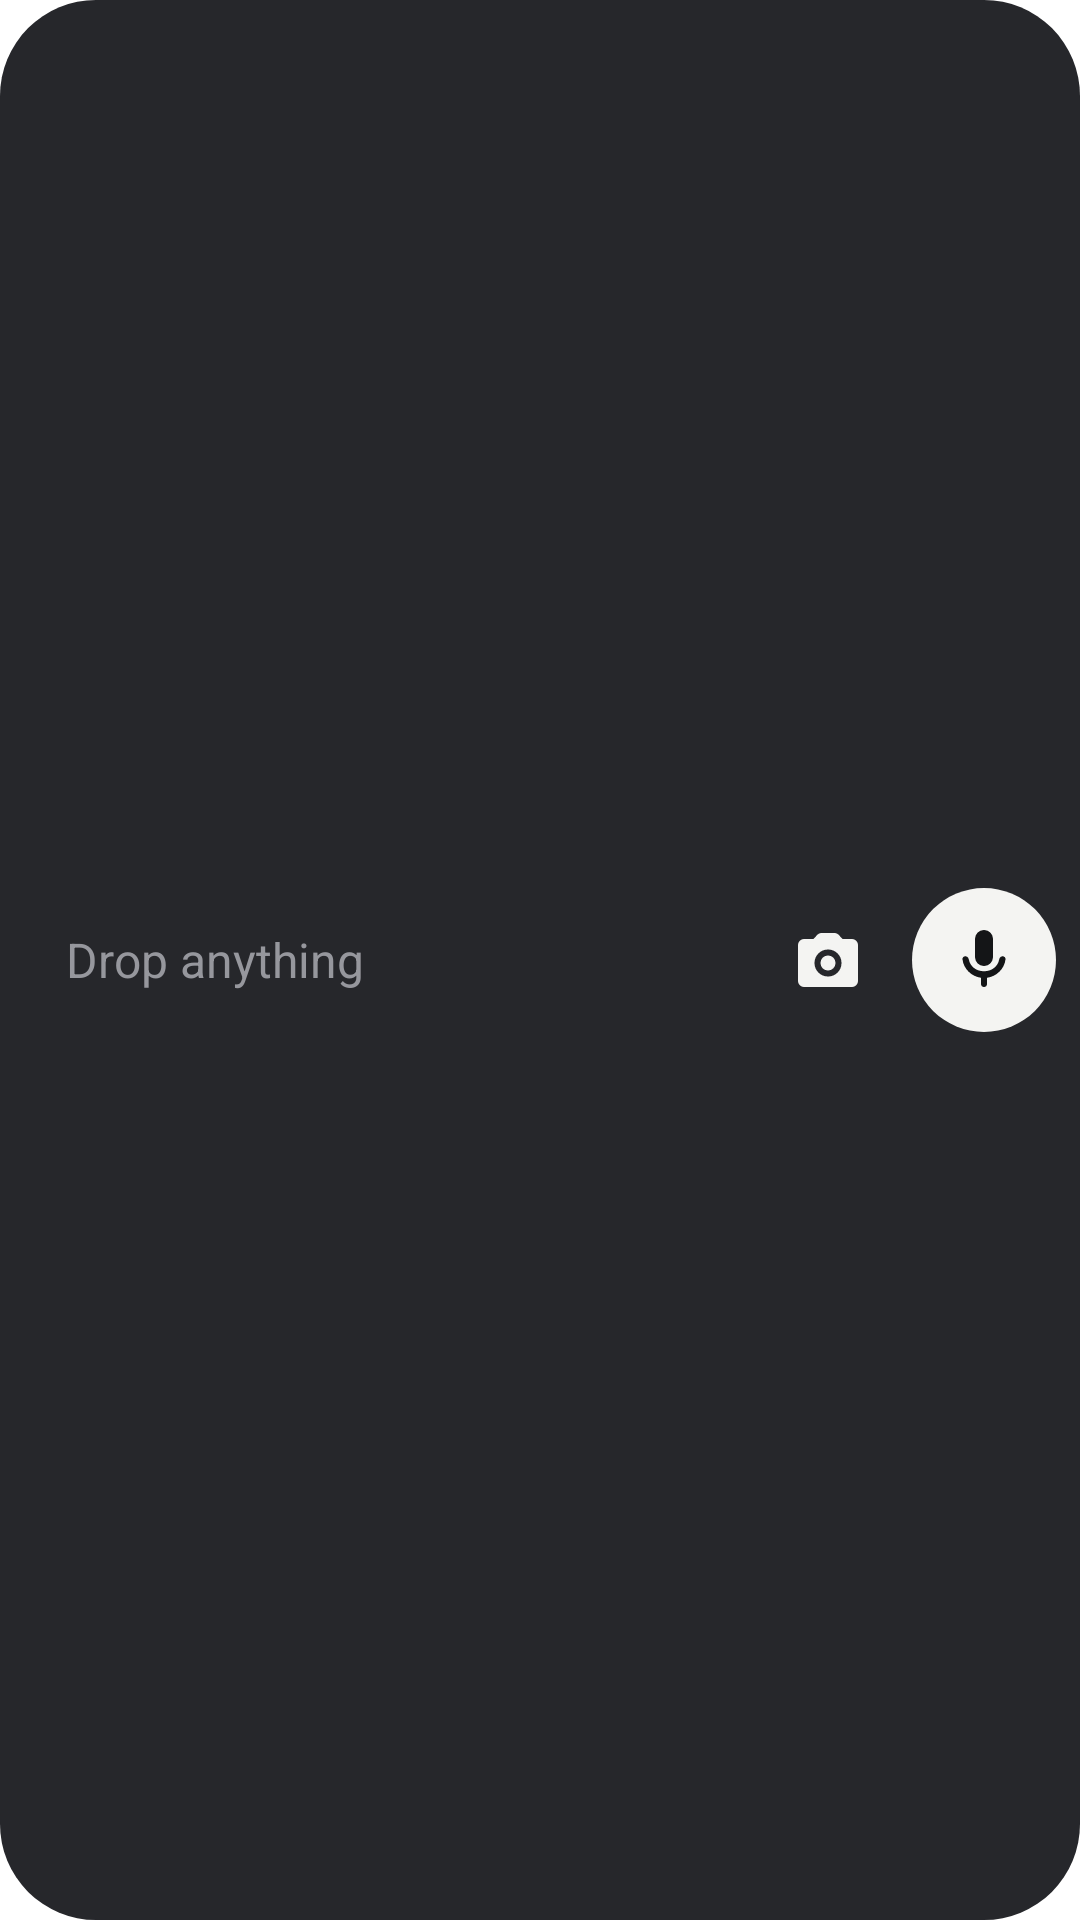

Where to tap for icons on this 1080px×1920px app screen, as point (x, y):
widget camera: point (828, 960)
widget mic: point (984, 958)
